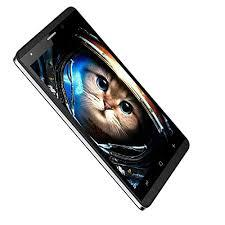Smartphone: (18, 7, 185, 215)
